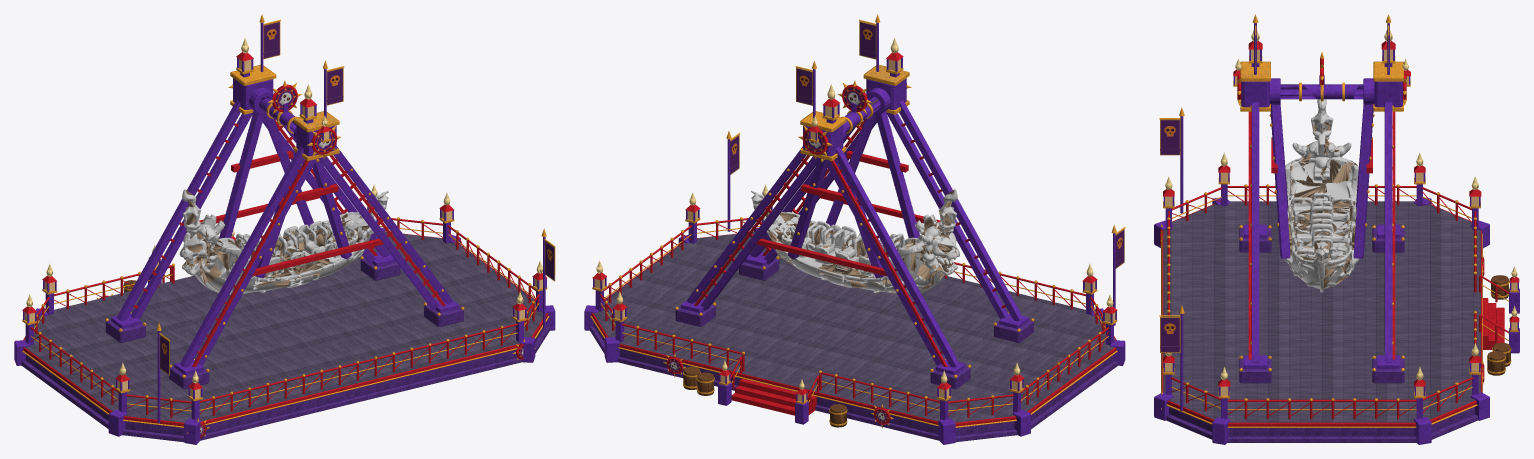
File: CUR_Viking_Fractured.fbx
3 renders of one model, left to right at view 1: azimuth 30°, elevation 25°; view 2: azimuth 150°, elevation 25°; view 3: azimuth 270°, elevation 25°, orthographic. The views are drawn at different scales.
Visible parts, largest first — view 1: CUR_Viking_Frag_03, CUR_Viking_Frag_23, CUR_Viking_Frag_27, CUR_Viking_Frag_21, CUR_Viking_Frag_25, CUR_Viking_Frag_00, CUR_Viking_Frag_17, CUR_Viking_Frag_09, CUR_Viking_Frag_01, CUR_Viking_Frag_28, CUR_Viking_Frag_33, CUR_Viking_Frag_08 (+24 smaller); view 2: CUR_Viking_Frag_23, CUR_Viking_Frag_25, CUR_Viking_Frag_27, CUR_Viking_Frag_03, CUR_Viking_Frag_00, CUR_Viking_Frag_21, CUR_Viking_Frag_19, CUR_Viking_Frag_22, CUR_Viking_Frag_08, CUR_Viking_Frag_31, CUR_Viking_Frag_26, CUR_Viking_Frag_04 (+25 smaller); view 3: CUR_Viking_Frag_03, CUR_Viking_Frag_23, CUR_Viking_Frag_22, CUR_Viking_Frag_00, CUR_Viking_Frag_24, CUR_Viking_Frag_12, CUR_Viking_Frag_04, CUR_Viking_Frag_19, CUR_Viking_Frag_07, CUR_Viking_Frag_27, CUR_Viking_Frag_09, CUR_Viking_Frag_05 (+24 smaller).
Boxes of the visible parts, box(x1,y1,x2,y2) form: CUR_Viking_Frag_03: box(339, 282, 489, 342); CUR_Viking_Frag_23: box(200, 234, 330, 361); CUR_Viking_Frag_27: box(84, 267, 207, 363); CUR_Viking_Frag_21: box(56, 352, 164, 437); CUR_Viking_Frag_25: box(129, 307, 276, 397); CUR_Viking_Frag_00: box(241, 203, 358, 345); CUR_Viking_Frag_17: box(285, 339, 397, 408); CUR_Viking_Frag_09: box(143, 370, 251, 444); CUR_Viking_Frag_01: box(356, 333, 483, 392); CUR_Viking_Frag_28: box(188, 99, 288, 196); CUR_Viking_Frag_33: box(233, 361, 330, 428); CUR_Viking_Frag_08: box(14, 294, 104, 390); CUR_Viking_Frag_23: box(804, 234, 939, 365); CUR_Viking_Frag_25: box(932, 260, 1059, 365); CUR_Viking_Frag_27: box(853, 314, 1014, 398); CUR_Viking_Frag_03: box(707, 235, 852, 316); CUR_Viking_Frag_00: box(779, 206, 878, 351); CUR_Viking_Frag_21: box(1009, 294, 1125, 405); CUR_Viking_Frag_19: box(697, 346, 820, 409); CUR_Viking_Frag_22: box(642, 284, 766, 336); CUR_Viking_Frag_08: box(969, 362, 1062, 439); CUR_Viking_Frag_31: box(627, 330, 759, 394); CUR_Viking_Frag_26: box(829, 364, 922, 432); CUR_Viking_Frag_04: box(859, 206, 959, 287); CUR_Viking_Frag_03: box(1200, 326, 1337, 397); CUR_Viking_Frag_23: box(1248, 203, 1417, 322); CUR_Viking_Frag_22: box(1310, 342, 1436, 411); CUR_Viking_Frag_00: box(1267, 206, 1409, 342); CUR_Viking_Frag_24: box(1243, 393, 1355, 442); CUR_Viking_Frag_12: box(1352, 366, 1458, 444); CUR_Viking_Frag_04: box(1285, 129, 1369, 206); CUR_Viking_Frag_19: box(1402, 306, 1519, 363); CUR_Viking_Frag_07: box(1233, 55, 1315, 148); CUR_Viking_Frag_27: box(1350, 224, 1440, 292); CUR_Viking_Frag_09: box(1154, 173, 1232, 268); CUR_Viking_Frag_05: box(1354, 41, 1410, 154).
Size of the model in its own units: 3000 by 1987 by 2034.
